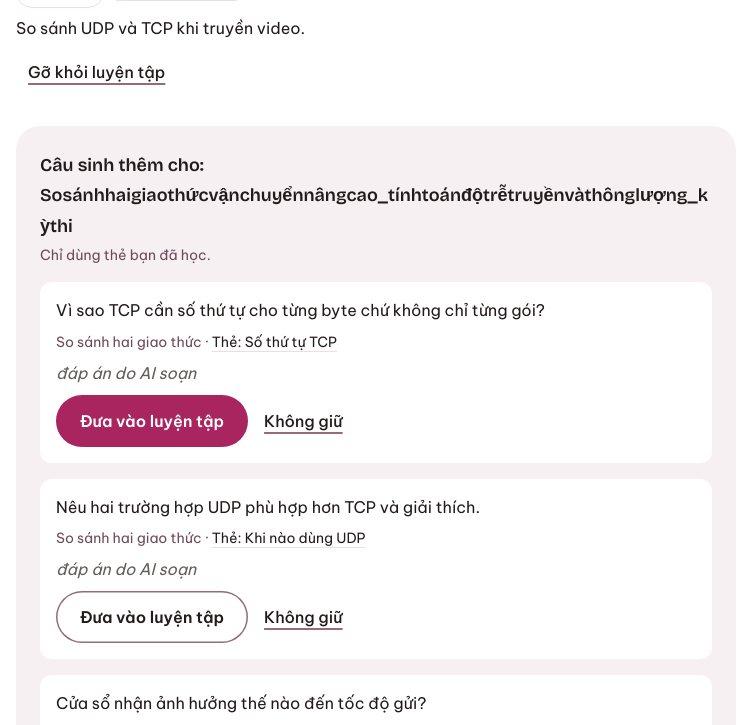
Test: generated candidates › AC5: each candidate keeps or discards; only the first undecided is primary; no keep-all
(page scrolled)
Expected: the text "Chỉ dùng thẻ bạn đã học." is shown, x1=40 y1=246 x2=211 y2=264
Expected: the 2nd list item shows "Vì sao TCP", x1=56 y1=300 x2=545 y2=320
Click the button "Đưa vào luyện tập" below "Thẻ: Số thứ tự TCP" at (152, 420), box x1=56 y1=394 x2=248 y2=446
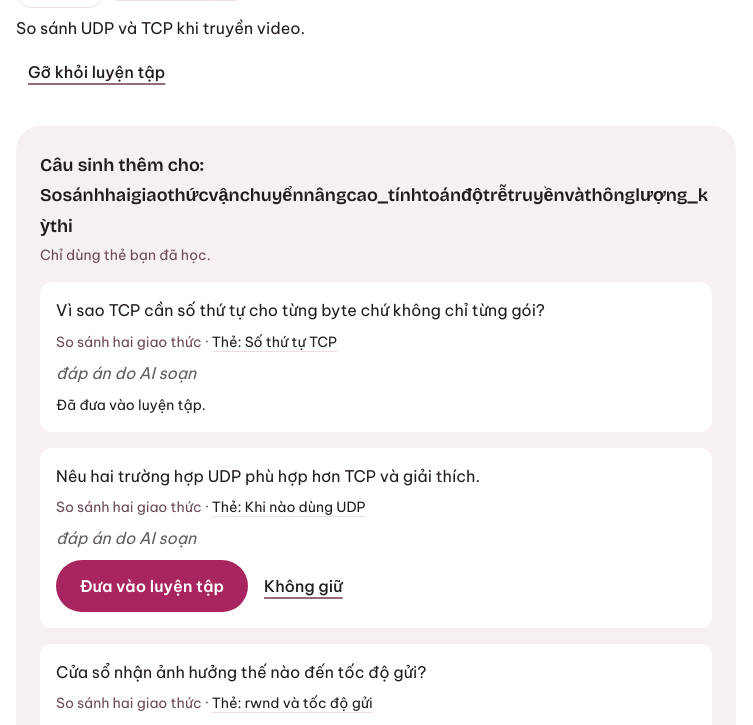
Expected: the 3rd list item shows "Nêu hai trường hợp", x1=56 y1=466 x2=480 y2=486
Now the text "Đã đưa vào luyện tập." is shown, box x1=56 y1=396 x2=206 y2=414
Click the button "Không giữ" below "Thẻ: Khi nào dùng UDP" at (303, 586), box x1=252 y1=564 x2=355 y2=608
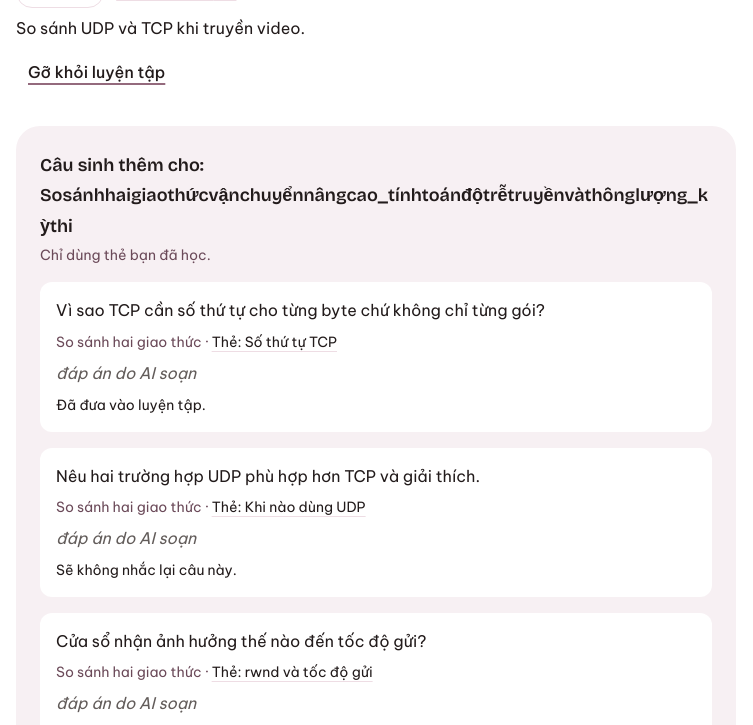
Now the text "Sẽ không nhắc lại câu này." is shown, box x1=56 y1=561 x2=237 y2=579
